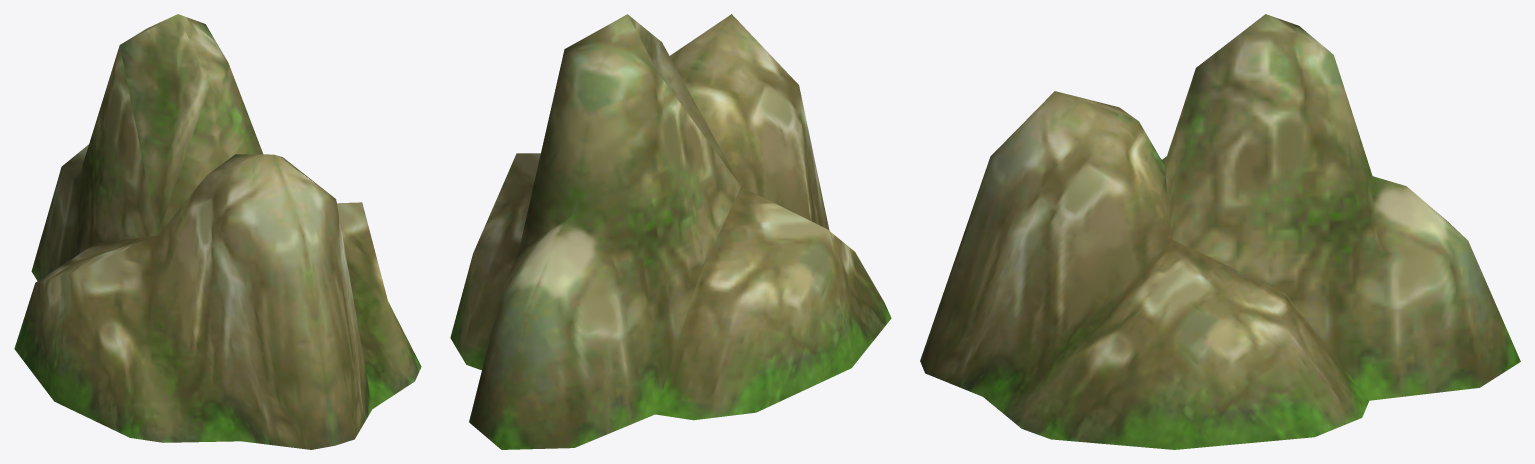
Rendered from stone38.FBX.
3 renders of one model, left to right at view 1: azimuth 30°, elevation 25°; view 2: azimuth 150°, elevation 25°; view 3: azimuth 270°, elevation 25°, orthographic. The views are drawn at different scales.
Parts seen in each view (by area): view 1: stone38; view 2: stone38; view 3: stone38.
Boxes of the visible parts, x1,y1,x2,y2 form: stone38: [14, 14, 421, 449]; stone38: [450, 14, 891, 449]; stone38: [920, 14, 1520, 449].
Size of the model in its own units: 302 by 277 by 434.
